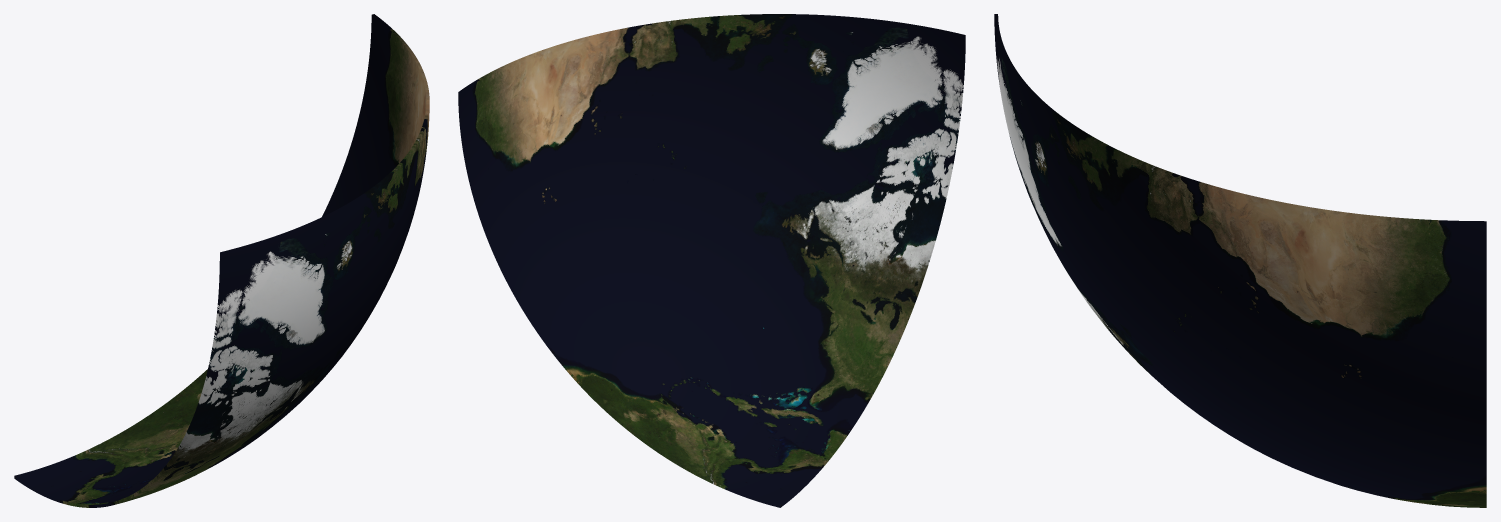
3 views of the same model, side by side, from view 1: azimuth 30°, elevation 25°; view 2: azimuth 150°, elevation 25°; view 3: azimuth 270°, elevation 25° (orthographic). The views are drawn at different scales.
Parts seen in each view (by area): view 1: DefaultName.011, DefaultName.008, DefaultName.002, DefaultName.005; view 2: DefaultName.005, DefaultName.002, DefaultName.008, DefaultName.011; view 3: DefaultName.005, DefaultName.008, DefaultName.002, DefaultName.011.
Boxes of the visible parts, box(x1,y1,x2,y2) form: DefaultName.011: box(159, 252, 340, 475); DefaultName.008: box(220, 146, 415, 353); DefaultName.002: box(14, 354, 342, 507); DefaultName.005: box(322, 14, 429, 355); DefaultName.005: box(458, 19, 749, 353); DefaultName.002: box(552, 205, 910, 507); DefaultName.008: box(683, 14, 965, 203); DefaultName.011: box(750, 35, 965, 313); DefaultName.005: box(1139, 161, 1486, 478); DefaultName.008: box(994, 14, 1141, 342); DefaultName.002: box(1139, 343, 1486, 507); DefaultName.011: box(994, 26, 1138, 363).
Bounding box in the file's own units: 63781 × 63781 × 63568.
4 materials, 4 textured.
